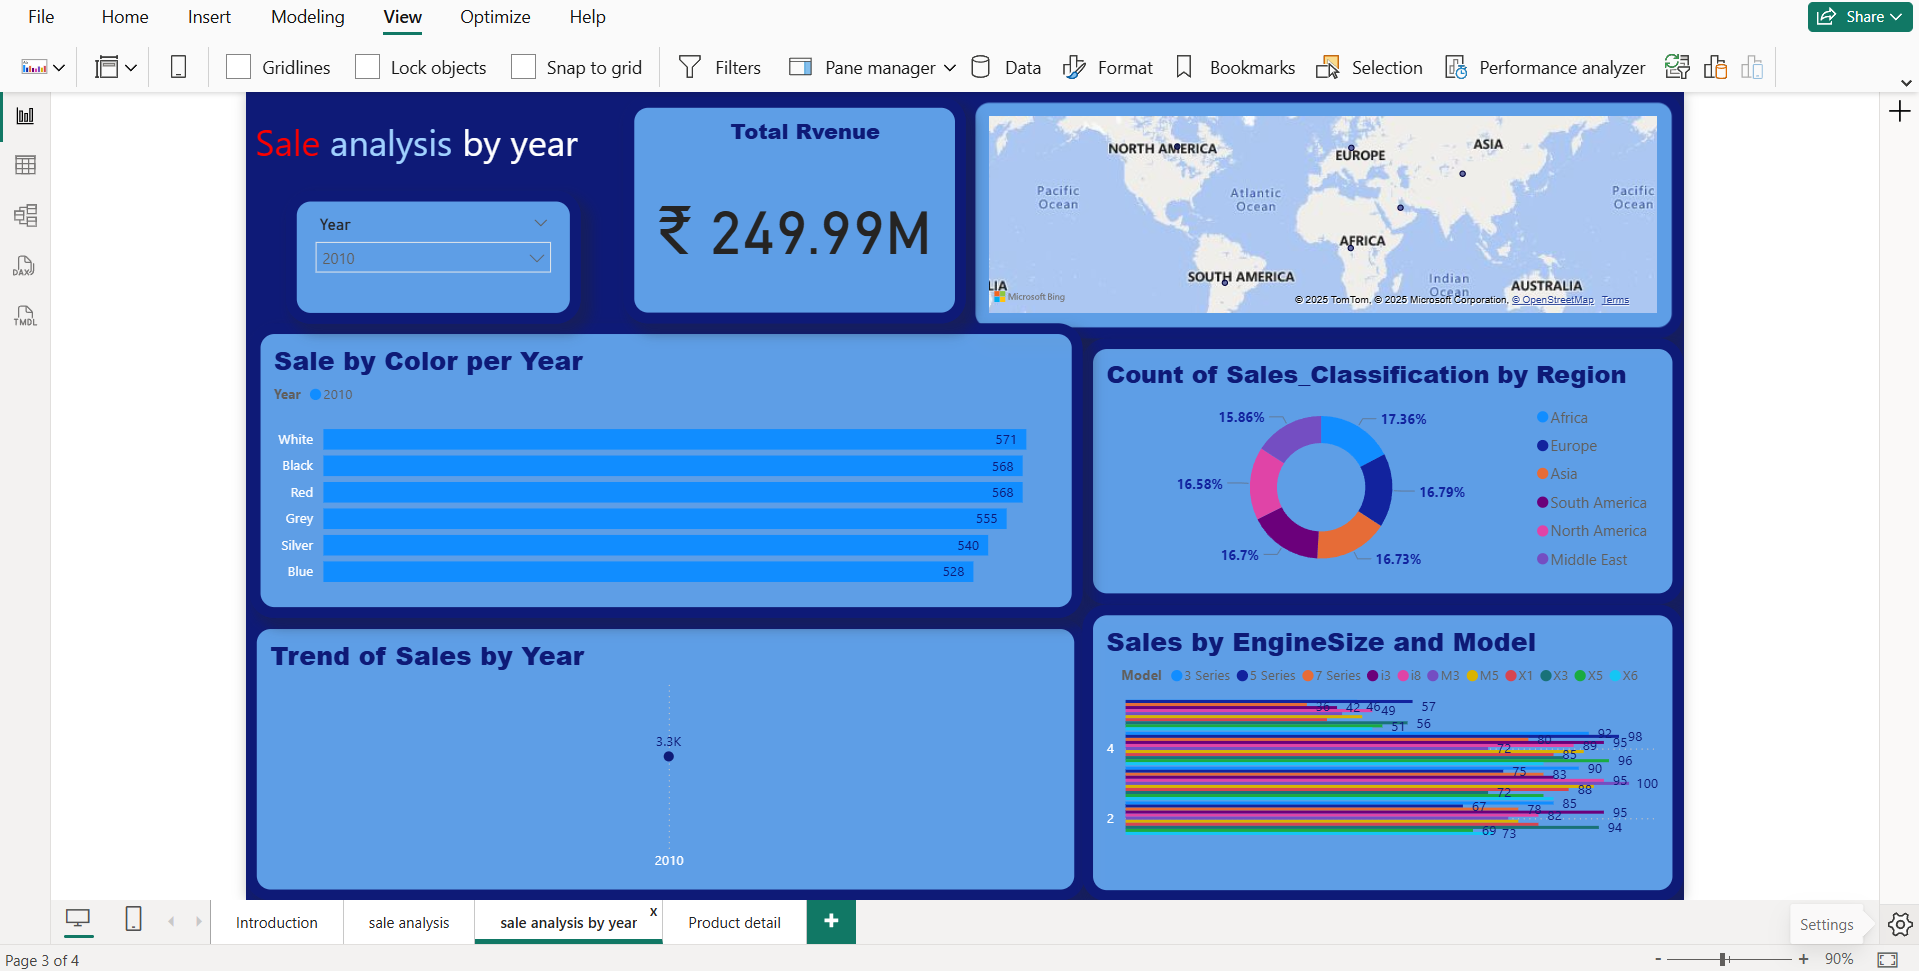

Layout of this report page (visuals, bound fields, positions):
{"tool":"powerbi","page":{"name":"sale analysis by year","canvas":[1280,720],"ordinal":2},"visuals":[{"type":"areaChart","title":"Trend of  Sales by Year","fields":{"Y":["CountNonNull(BMW_Car_Sales_Classification.Sales_Volume)"],"Category":["BMW_Car_Sales_Classification.Year"]},"box":[0,468.9,747.4,251],"z":0},{"type":"map","fields":{"Category":["BMW_Car_Sales_Classification.Region"]},"box":[640.6,0,639.1,219.3],"z":1000},{"type":"pieChart","fields":{"Category":["BMW_Car_Sales_Classification.Region"],"Y":["CountNonNull(BMW_Car_Sales_Classification.Sales_Classification)"]},"box":[744.5,219.3,535.3,236.6],"z":2000},{"type":"barChart","title":"Sale by Color per Year","fields":{"Category":["BMW_Car_Sales_Classification.Color"],"Series":["BMW_Car_Sales_Classification.Year"],"Y":["CountNonNull(BMW_Car_Sales_Classification.Sales_Volume)"]},"box":[2.9,206.3,741.6,262.6],"z":3000},{"type":"card","title":"Total Rvenue ","fields":{"Values":["Sum(BMW_Car_Sales_Classification.Price)"]},"box":[336.2,4.3,304.4,202],"z":4000},{"type":"slicer","fields":{"Values":["BMW_Car_Sales_Classification.Year"]},"box":[36.1,88,262.6,118.3],"z":5000},{"type":"textbox","box":[2.9,17.3,440,102.4],"z":6000},{"type":"clusteredBarChart","title":"Sales by EngineSize and Model","fields":{"Category":["BMW_Car_Sales_Classification.Engine_Size_L"],"Series":["BMW_Car_Sales_Classification.Model"],"Y":["Count(BMW_Car_Sales_Classification.Sales_Volume)"]},"box":[744.5,455.9,535.3,264],"z":7000}]}

Visuals, with their boxes on the page's 1280x720 design canvas (x1, y1, x2, y2). These are canvas units, not pixel positions in the 1919x971 screenshot, which may show the page scaled, cropped or inside an application window:
"Trend of  Sales by Year" areaChart: [x1=0, y1=469, x2=747, y2=720]
map - BMW_Car_Sales_Classification.Region: [x1=641, y1=0, x2=1280, y2=219]
pieChart - BMW_Car_Sales_Classification.Region x CountNonNull(BMW_Car_Sales_Classification.Sales_Classification): [x1=744, y1=219, x2=1280, y2=456]
"Sale by Color per Year" barChart: [x1=3, y1=206, x2=744, y2=469]
"Total Rvenue " card: [x1=336, y1=4, x2=641, y2=206]
slicer - BMW_Car_Sales_Classification.Year: [x1=36, y1=88, x2=299, y2=206]
textbox: [x1=3, y1=17, x2=443, y2=120]
"Sales by EngineSize and Model" clusteredBarChart: [x1=744, y1=456, x2=1280, y2=720]
